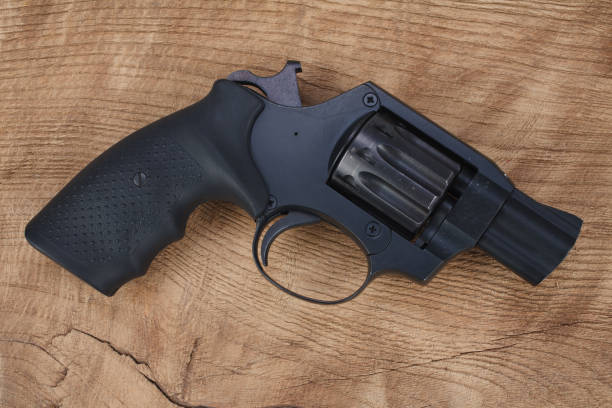gun: (22, 54, 586, 306)
